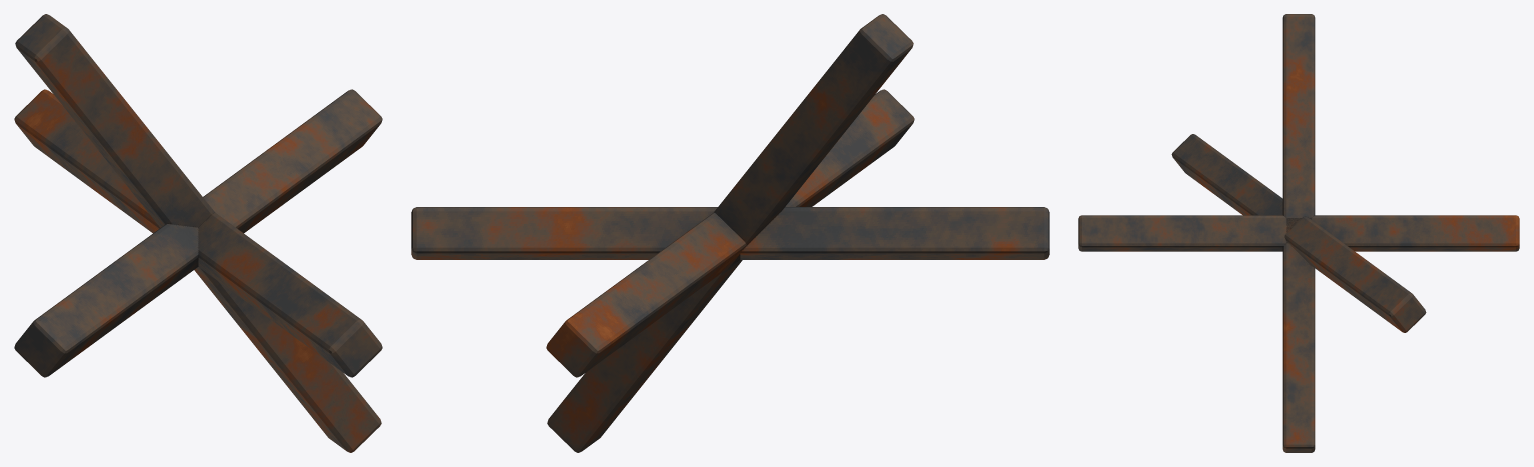
Rendered from city_hedgehog.glb.
3 views of the same model, side by side, from view 1: azimuth 30°, elevation 25°; view 2: azimuth 150°, elevation 25°; view 3: azimuth 270°, elevation 25° (orthographic). The views are drawn at different scales.
Parts seen in each view (by area): view 1: city_hedgehog; view 2: city_hedgehog; view 3: city_hedgehog.
Part boxes in pixels (<box>): city_hedgehog: <box>14,14,382,452</box>; city_hedgehog: <box>411,14,1049,452</box>; city_hedgehog: <box>1078,14,1519,452</box>.
Bounding box in the file's own units: 1.72 × 1.62 × 1.9.
Materials: 1 (1 with a texture image).
